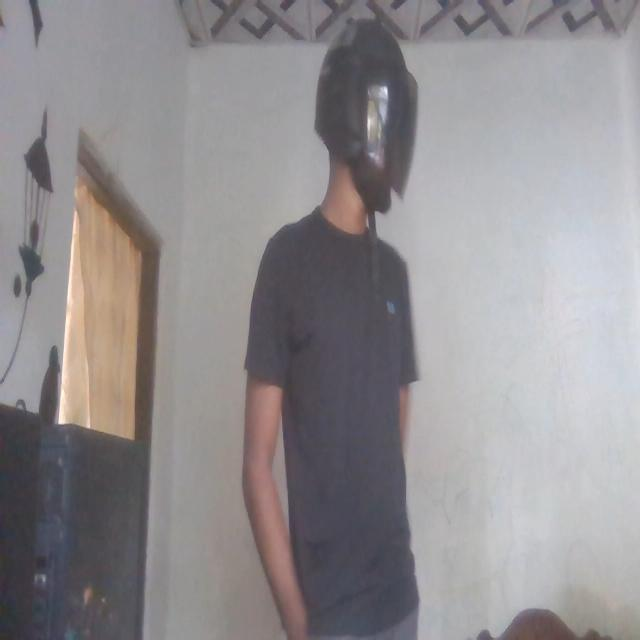Helmet_Wearer: (304, 7, 426, 275)
Person: (238, 0, 438, 640)
